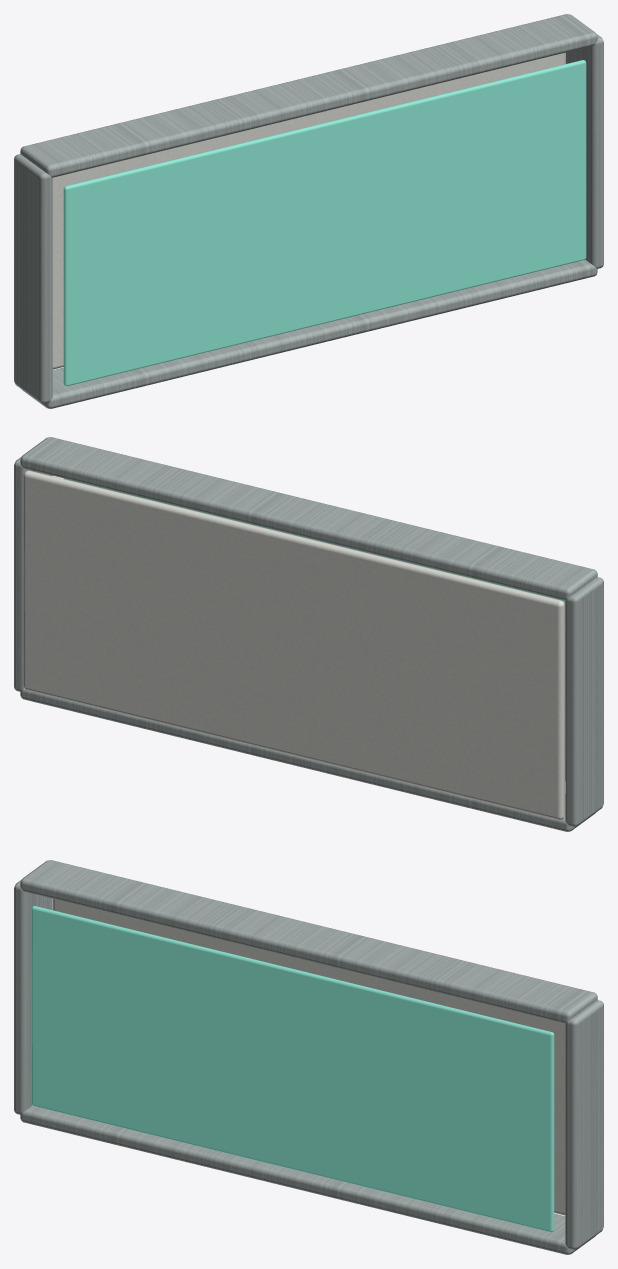
File: detail-platform-display-0.glb
3 renders of one model, top to bottom at view 1: azimuth 30°, elevation 25°; view 2: azimuth 150°, elevation 25°; view 3: azimuth 330°, elevation 25°, orthographic.
Parts seen in each view (by area): view 1: graphic_surface, frame_rail (×2), frame_side (×2), panel_back; view 2: panel_back, frame_rail (×2), frame_side (×2), graphic_surface; view 3: graphic_surface, frame_rail (×2), frame_side (×2), panel_back.
Boxes of the visible parts, x1,y1,x2,y2 form: graphic_surface: [63, 60, 586, 386]; frame_rail (×2): [20, 14, 597, 408]; frame_side (×2): [14, 33, 603, 403]; panel_back: [52, 53, 564, 369]; panel_back: [23, 470, 564, 819]; frame_rail (×2): [20, 437, 597, 831]; frame_side (×2): [14, 456, 603, 826]; graphic_surface: [63, 478, 565, 781]; graphic_surface: [31, 906, 554, 1232]; frame_rail (×2): [20, 860, 597, 1254]; frame_side (×2): [14, 879, 603, 1249]; panel_back: [53, 899, 565, 1215].
Bounding box in the file's own units: 1.54 × 0.635 × 0.1645.
3 materials, 2 textured.
